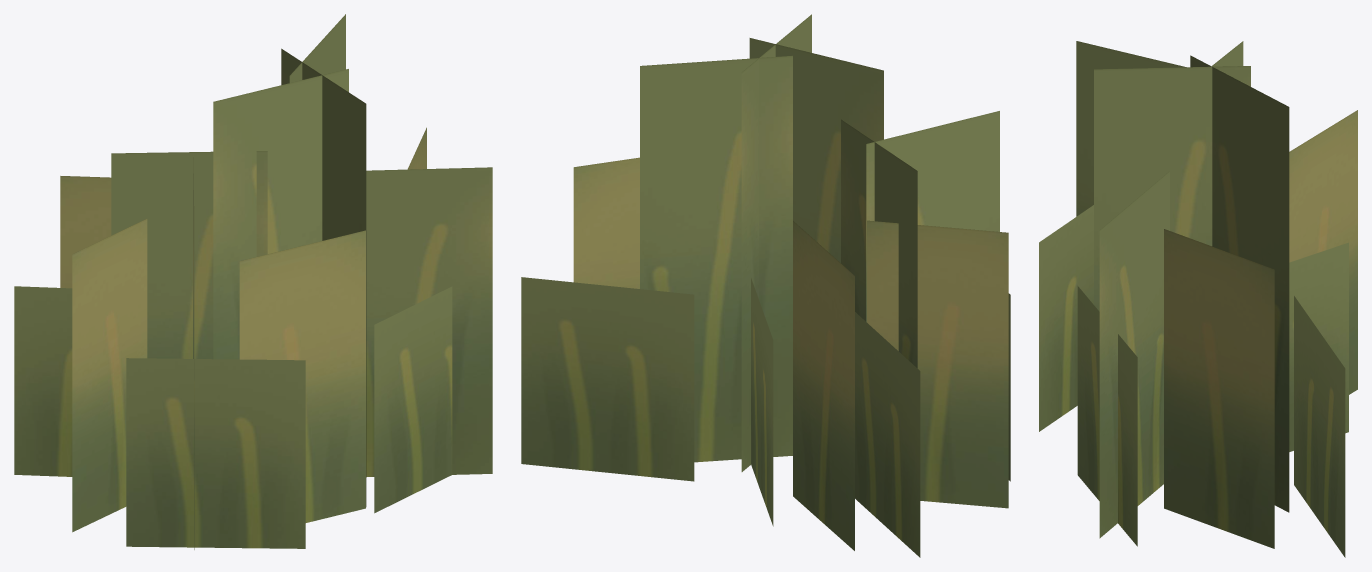
File: grass3.glb
3 views of the same model, side by side, from view 1: azimuth 30°, elevation 25°; view 2: azimuth 150°, elevation 25°; view 3: azimuth 270°, elevation 25° (orthographic).
Visible parts, largest first — view 1: Object_5.001; view 2: Object_5.001; view 3: Object_5.001.
Boxes of the visible parts, bbox=[...] form: Object_5.001: bbox=[14, 14, 492, 549]; Object_5.001: bbox=[521, 14, 1010, 557]; Object_5.001: bbox=[1039, 41, 1357, 557].
Size of the model in its own units: 32.63 by 30.35 by 21.61.
Materials: 1 (1 with a texture image).
